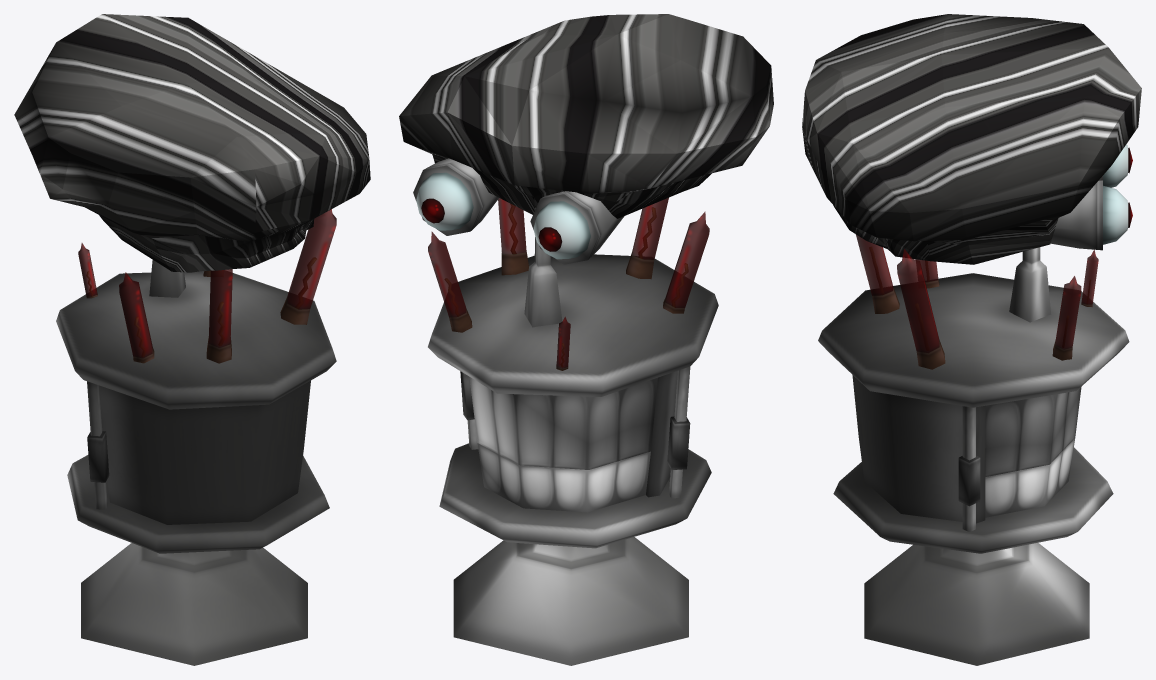
File: golf_skelecog.glb
The picture shows the model from 3 angles, left to right: view 1: azimuth 30°, elevation 25°; view 2: azimuth 150°, elevation 25°; view 3: azimuth 270°, elevation 25°; orthographic projection. The views are drawn at different scales.
Visible parts, largest first — view 1: Object.005; view 2: Object.005; view 3: Object.005.
Boxes of the visible parts, left/top/right/bottom form: Object.005: left=14, top=14, right=370, bottom=665; Object.005: left=399, top=14, right=773, bottom=665; Object.005: left=802, top=14, right=1141, bottom=665.
Bounding box in the file's own units: 1.09 × 1.87 × 1.04.
Materials: 2 (2 with a texture image).
